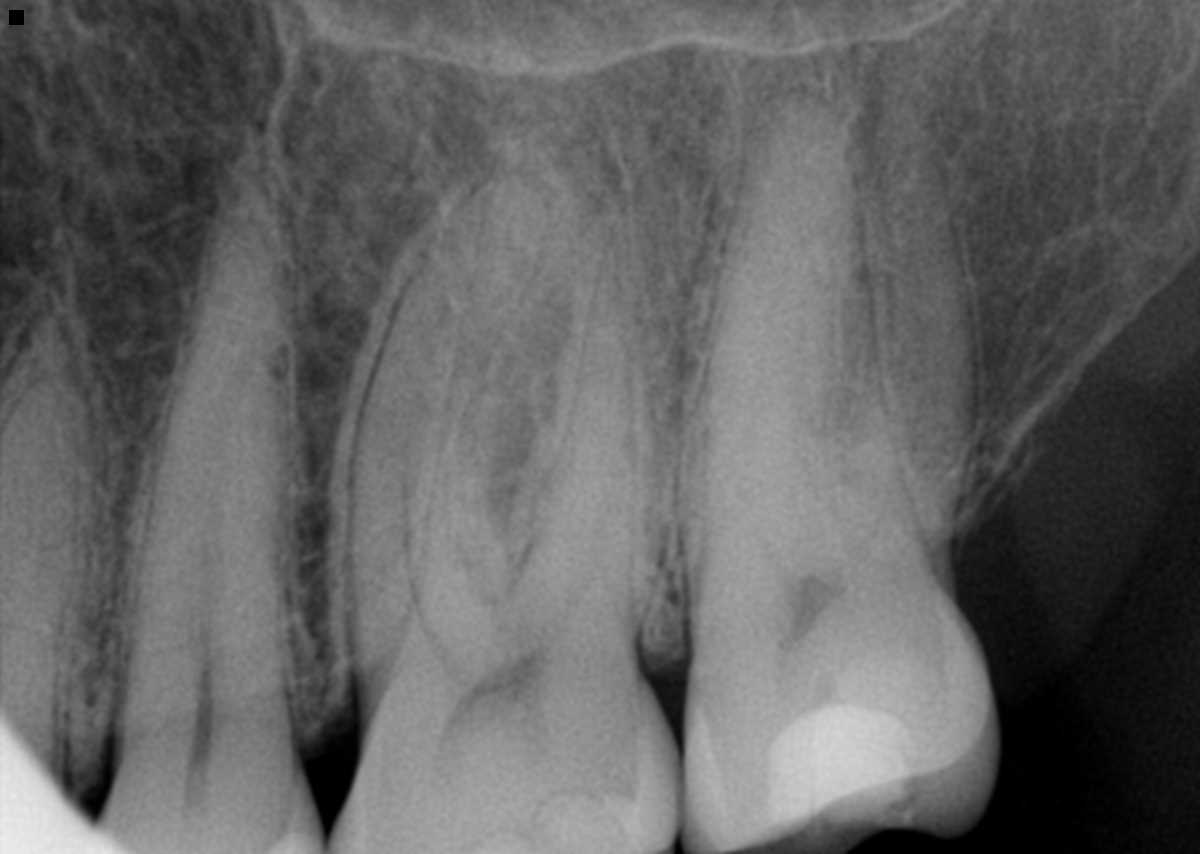Distal Canal: (834, 335, 921, 591), (536, 466, 611, 655)
Distal Root: (510, 147, 716, 627), (831, 143, 978, 527)
Main Canal: (193, 368, 246, 738)
Main Root: (123, 178, 295, 743), (0, 373, 83, 774)
Mesial Canal: (398, 385, 457, 675), (748, 497, 804, 590)
Mesial Root: (343, 174, 551, 676)
Palatal Root: (388, 76, 652, 679), (689, 87, 922, 592)
